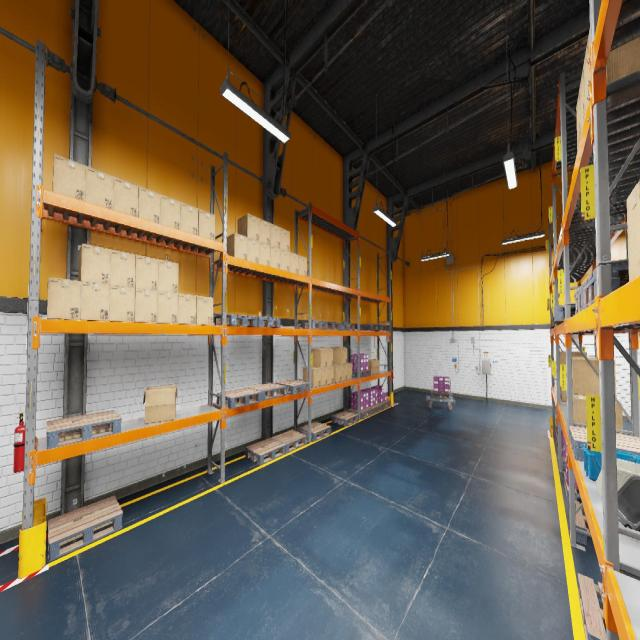box: (572, 394, 622, 434), (572, 357, 616, 398), (52, 153, 86, 201), (606, 37, 640, 84), (626, 179, 640, 281), (46, 277, 80, 319), (143, 385, 177, 424), (78, 243, 110, 284), (85, 166, 114, 209), (80, 282, 110, 321), (114, 176, 138, 217), (110, 249, 135, 288), (109, 285, 135, 322), (138, 186, 161, 223), (134, 289, 158, 323), (136, 255, 158, 290), (160, 194, 180, 230), (157, 291, 178, 324), (158, 260, 178, 292), (237, 214, 259, 242), (181, 202, 198, 235), (559, 351, 587, 371), (178, 293, 196, 324), (227, 233, 247, 260), (198, 209, 215, 240), (196, 296, 213, 324), (584, 37, 589, 114), (303, 366, 320, 388), (247, 238, 259, 263), (259, 218, 270, 244), (312, 348, 327, 367), (580, 64, 584, 134), (318, 348, 333, 366), (259, 242, 270, 266), (332, 347, 347, 364), (576, 88, 580, 150), (270, 224, 280, 248), (280, 228, 290, 251), (270, 246, 280, 268), (280, 249, 290, 271), (367, 359, 380, 374), (290, 252, 298, 274), (337, 364, 347, 381), (298, 255, 306, 276), (334, 364, 341, 382), (321, 367, 327, 386), (560, 383, 566, 401), (588, 27, 590, 80), (328, 366, 333, 384), (580, 117, 584, 136), (577, 136, 581, 153), (585, 101, 589, 118), (348, 363, 352, 380), (574, 152, 577, 166), (572, 166, 574, 179), (560, 380, 561, 398)
pallets: (48, 496, 122, 562), (46, 410, 122, 449), (569, 426, 640, 461), (583, 264, 629, 309), (578, 574, 606, 640), (574, 284, 625, 314), (246, 438, 286, 465), (569, 499, 590, 545), (217, 388, 262, 408), (271, 430, 307, 452), (247, 382, 287, 400), (300, 421, 332, 441), (275, 379, 310, 395), (215, 314, 258, 327), (564, 472, 580, 504), (332, 411, 359, 426), (554, 305, 575, 323), (250, 317, 280, 327), (348, 407, 373, 419), (298, 321, 327, 330), (557, 311, 575, 324), (430, 390, 451, 400), (322, 322, 341, 330), (369, 403, 382, 414), (336, 324, 355, 331), (368, 324, 389, 330), (360, 324, 381, 330), (353, 370, 371, 377), (378, 400, 391, 409), (562, 457, 565, 470), (552, 316, 555, 326), (556, 430, 558, 445), (551, 318, 554, 327), (557, 438, 558, 451)
